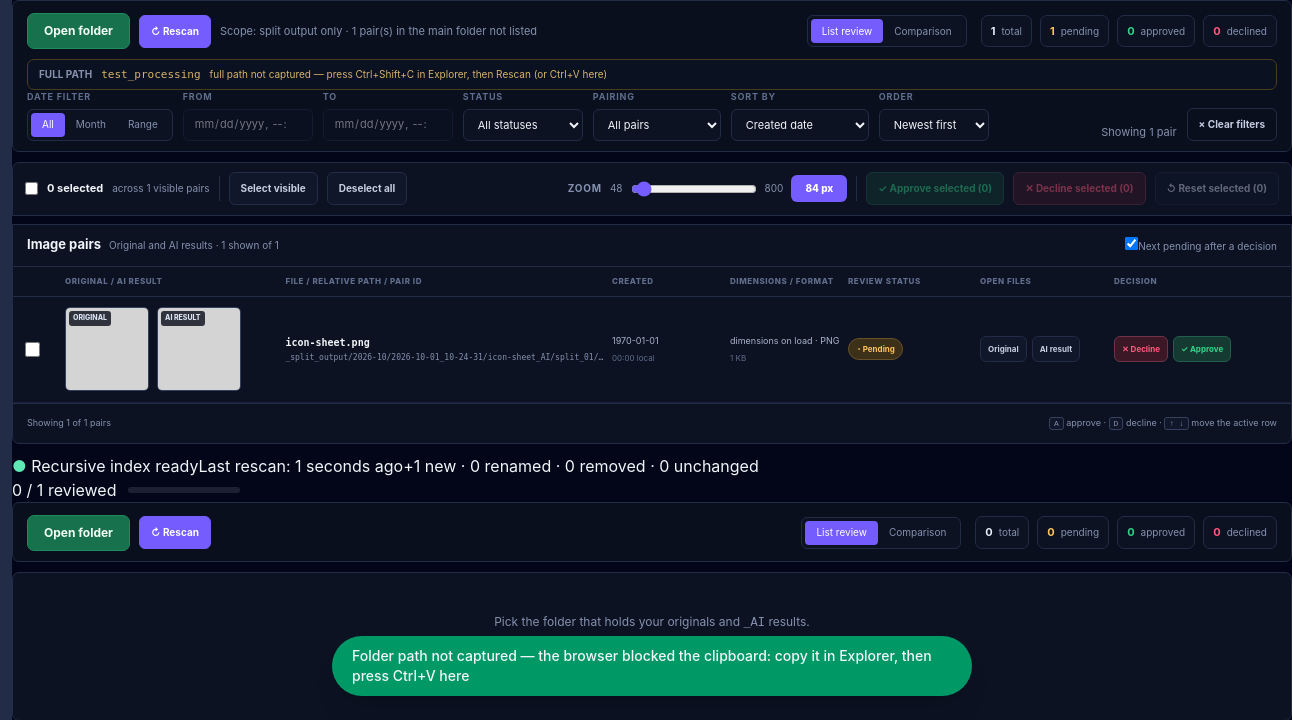
Scenario: Selection V2 panel › keeps the whole folder when no split output exists
This screenshot has width=1292, height=720.
Click the 2nd button with test id "v2-open-folder": (78,532) x1=27 y1=514 x2=130 y2=550
(page scrolled)
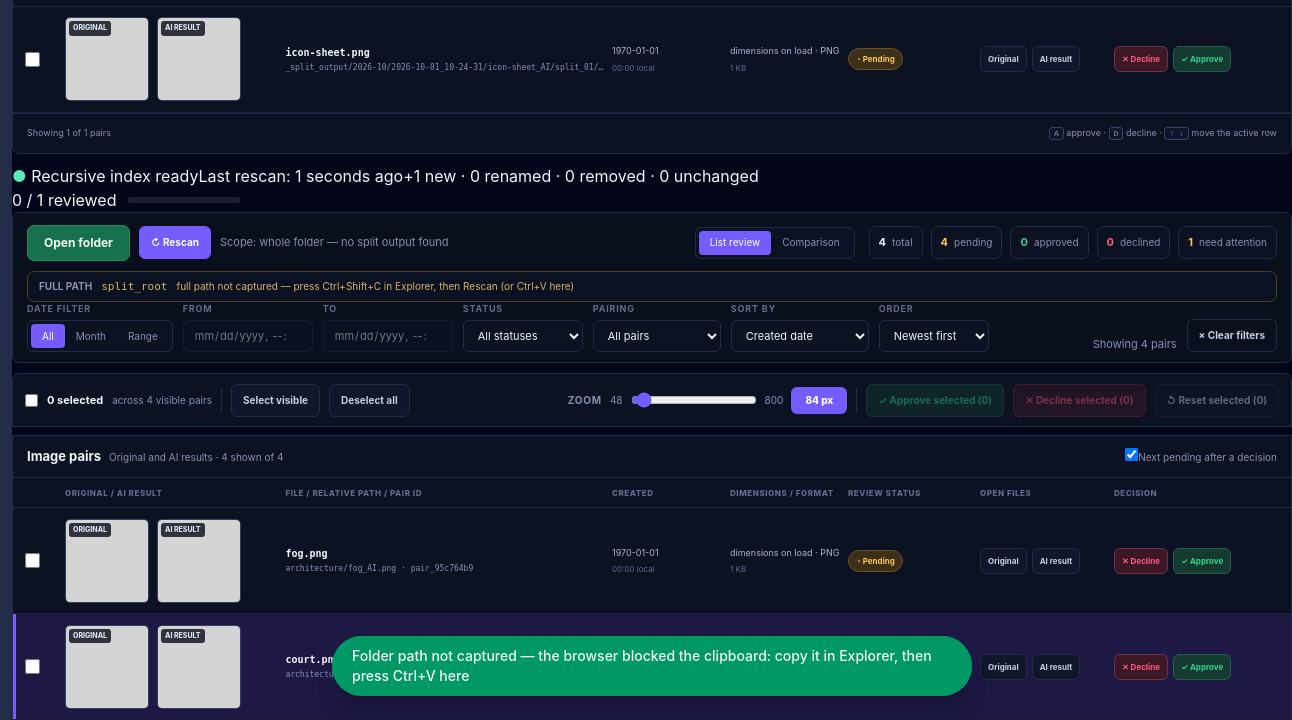
Now the text with test id "v2-scan-scope" shows "no split output found", box x1=220 y1=235 x2=448 y2=249
